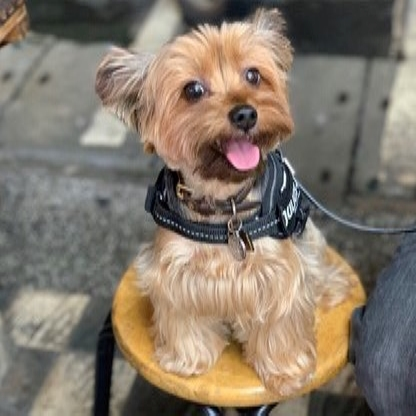yorkshire: (95, 6, 358, 396)
